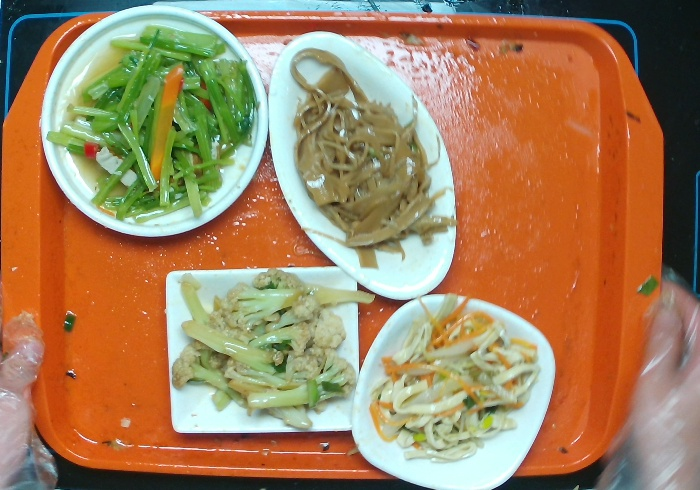HZYJPL-Si_Fang_Die: (159, 262, 370, 440)
HZYJPL-Si_Fang_Yuan_Die: (346, 289, 561, 490)
HZYJPL-Xiao_Yu_Die: (265, 27, 461, 305)
HZYJPL-Xiao_Yuan_Die: (34, 1, 273, 244)
